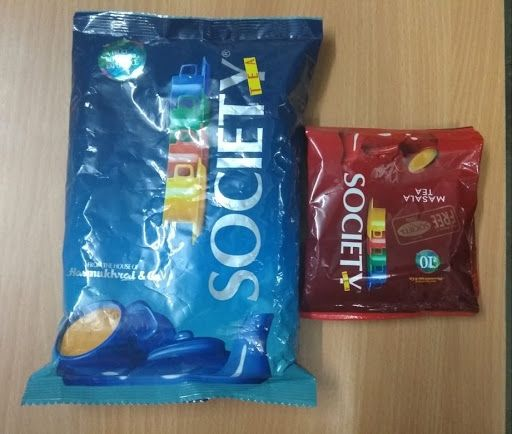society: (66, 7, 311, 403)
